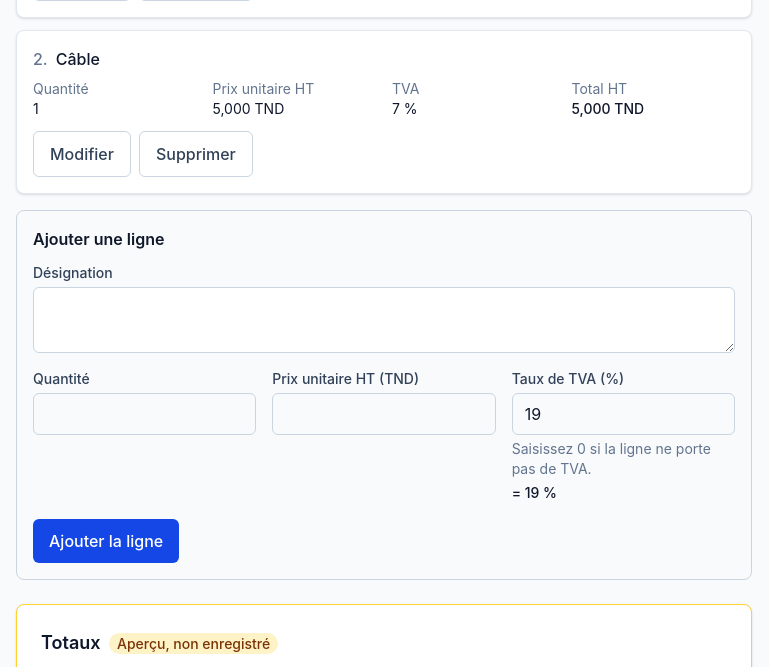
Test: adding a line › says the lines can no longer change when the document was issued meanwhile (DF014)
(page scrolled)
Type "Trop tard" into the text box labelled "Désignation" at (384, 320), box [33,287,735,353]
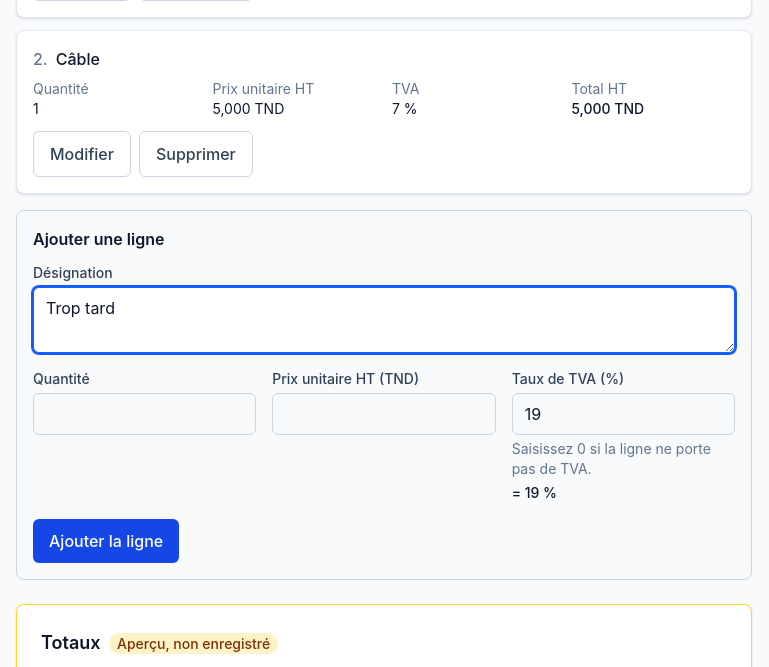
Type "1" into the field labelled "Quantité" at (145, 414), box [33,393,256,435]
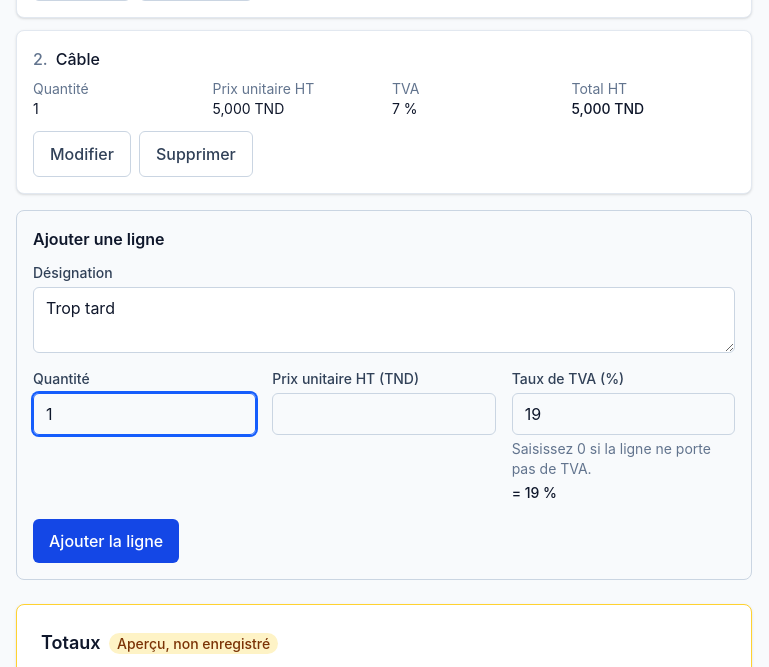
Type "1" into the field labelled "Prix unitaire HT (TND)" at (384, 414), box [272,393,496,435]
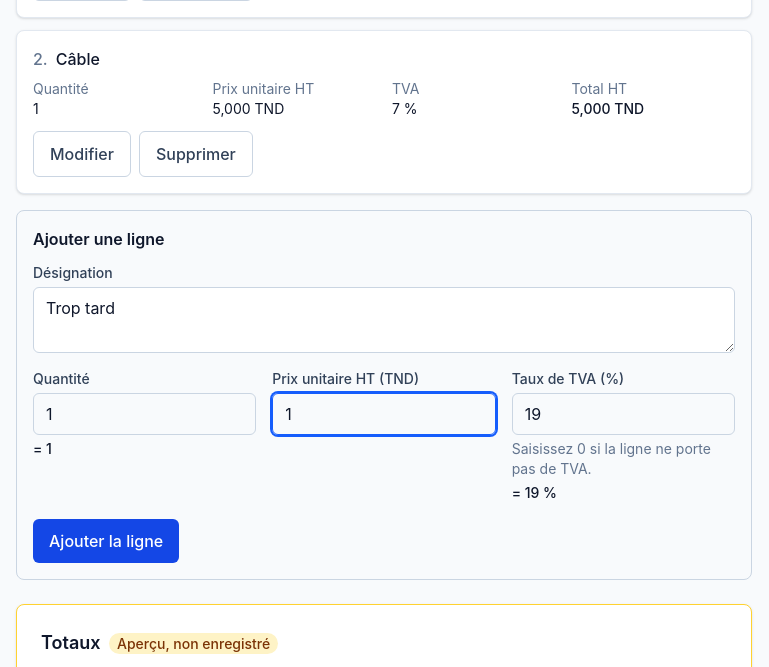
Click the button "Ajouter la ligne" at (106, 541), box [33,519,179,563]
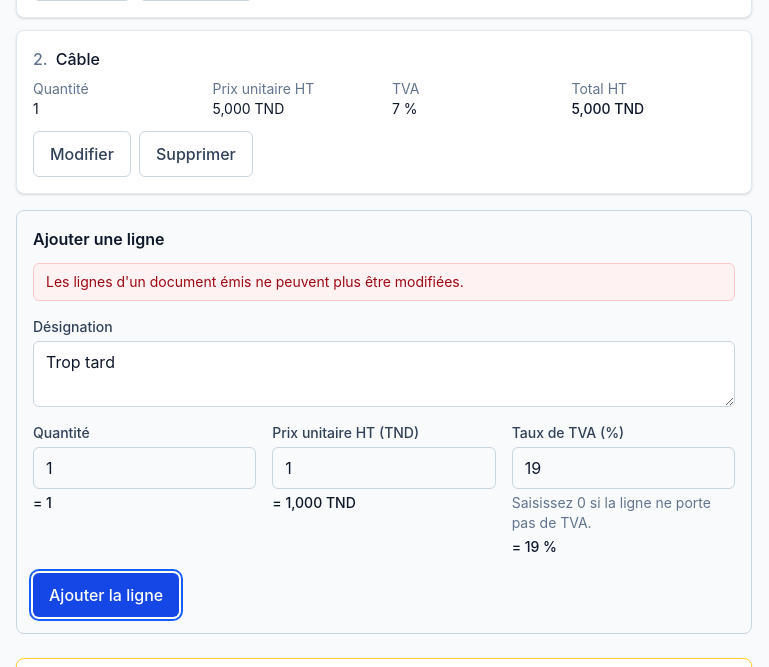
Check: the message "Les lignes d'un document émis ne peuvent plus être modifiées." is shown, box [33,263,735,301]
